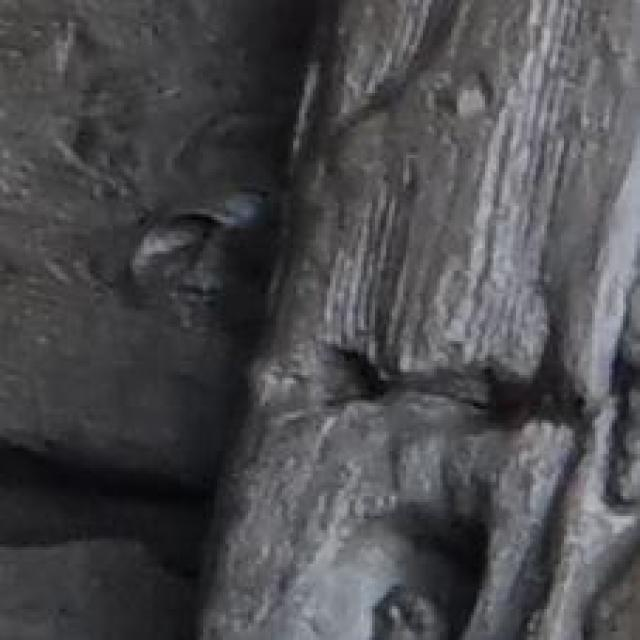Crack: (87, 10, 508, 640)
